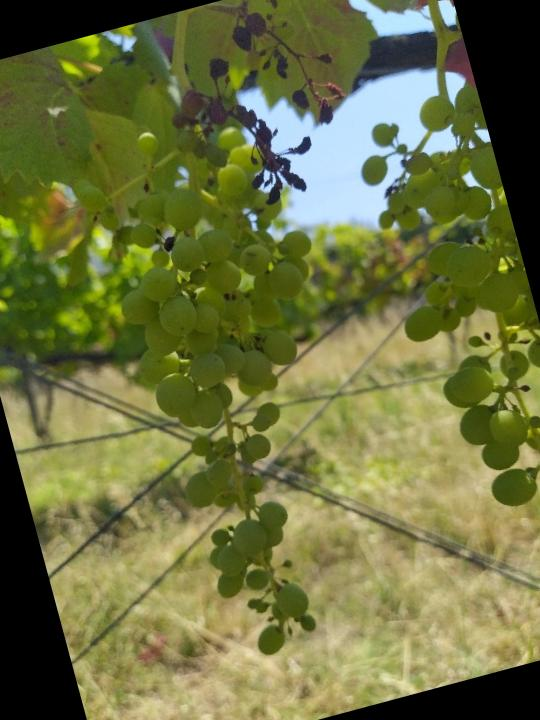grape: (55, 94, 420, 685), (142, 0, 375, 227)
